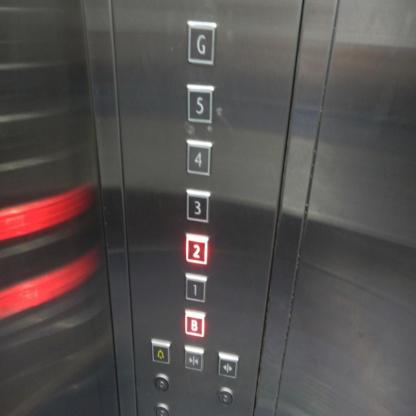1: (184, 271, 207, 303)
2: (184, 231, 208, 265)
3: (184, 185, 210, 224)
4: (186, 137, 213, 177)
5: (186, 83, 215, 124)
B: (183, 308, 206, 338)
G: (186, 20, 218, 66)
alarm: (150, 336, 172, 366)
close: (182, 345, 206, 372)
open: (215, 350, 239, 380)
